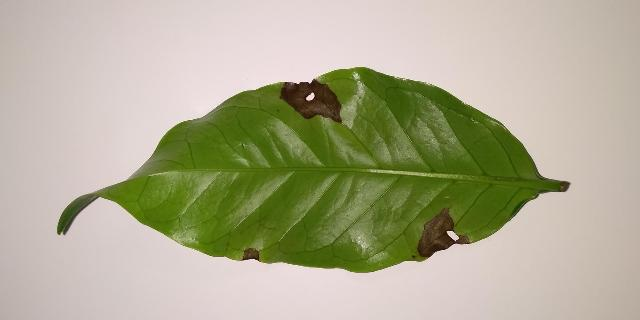rust: (416, 208, 473, 261), (280, 77, 343, 123), (237, 248, 262, 262)
